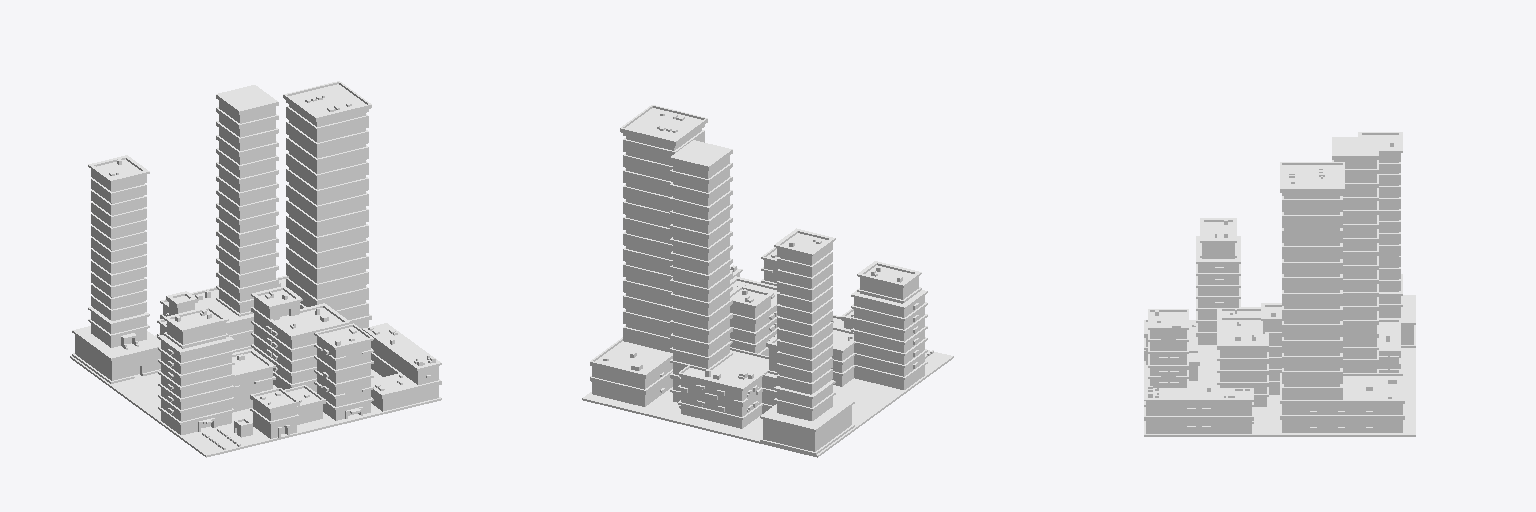
Rendered from city+ugly.obj.
3 views of the same model, side by side, from view 1: azimuth 30°, elevation 25°; view 2: azimuth 150°, elevation 25°; view 3: azimuth 270°, elevation 25° (orthographic).
Size of the model in its own units: 126 by 126 by 126.